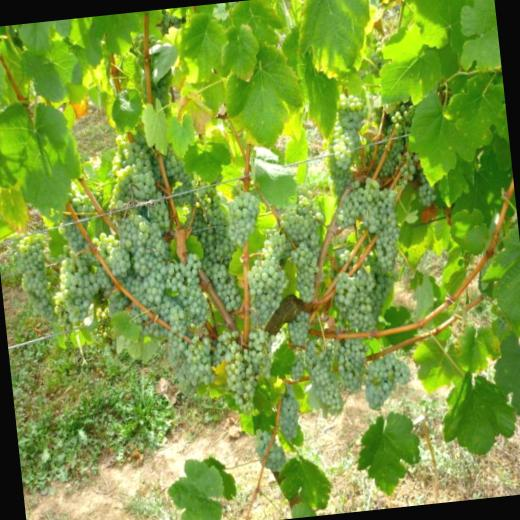Orange: (38, 103, 418, 443), (366, 44, 436, 210), (9, 230, 60, 328), (328, 90, 376, 171), (132, 31, 178, 114), (273, 380, 302, 444), (253, 424, 288, 473)
